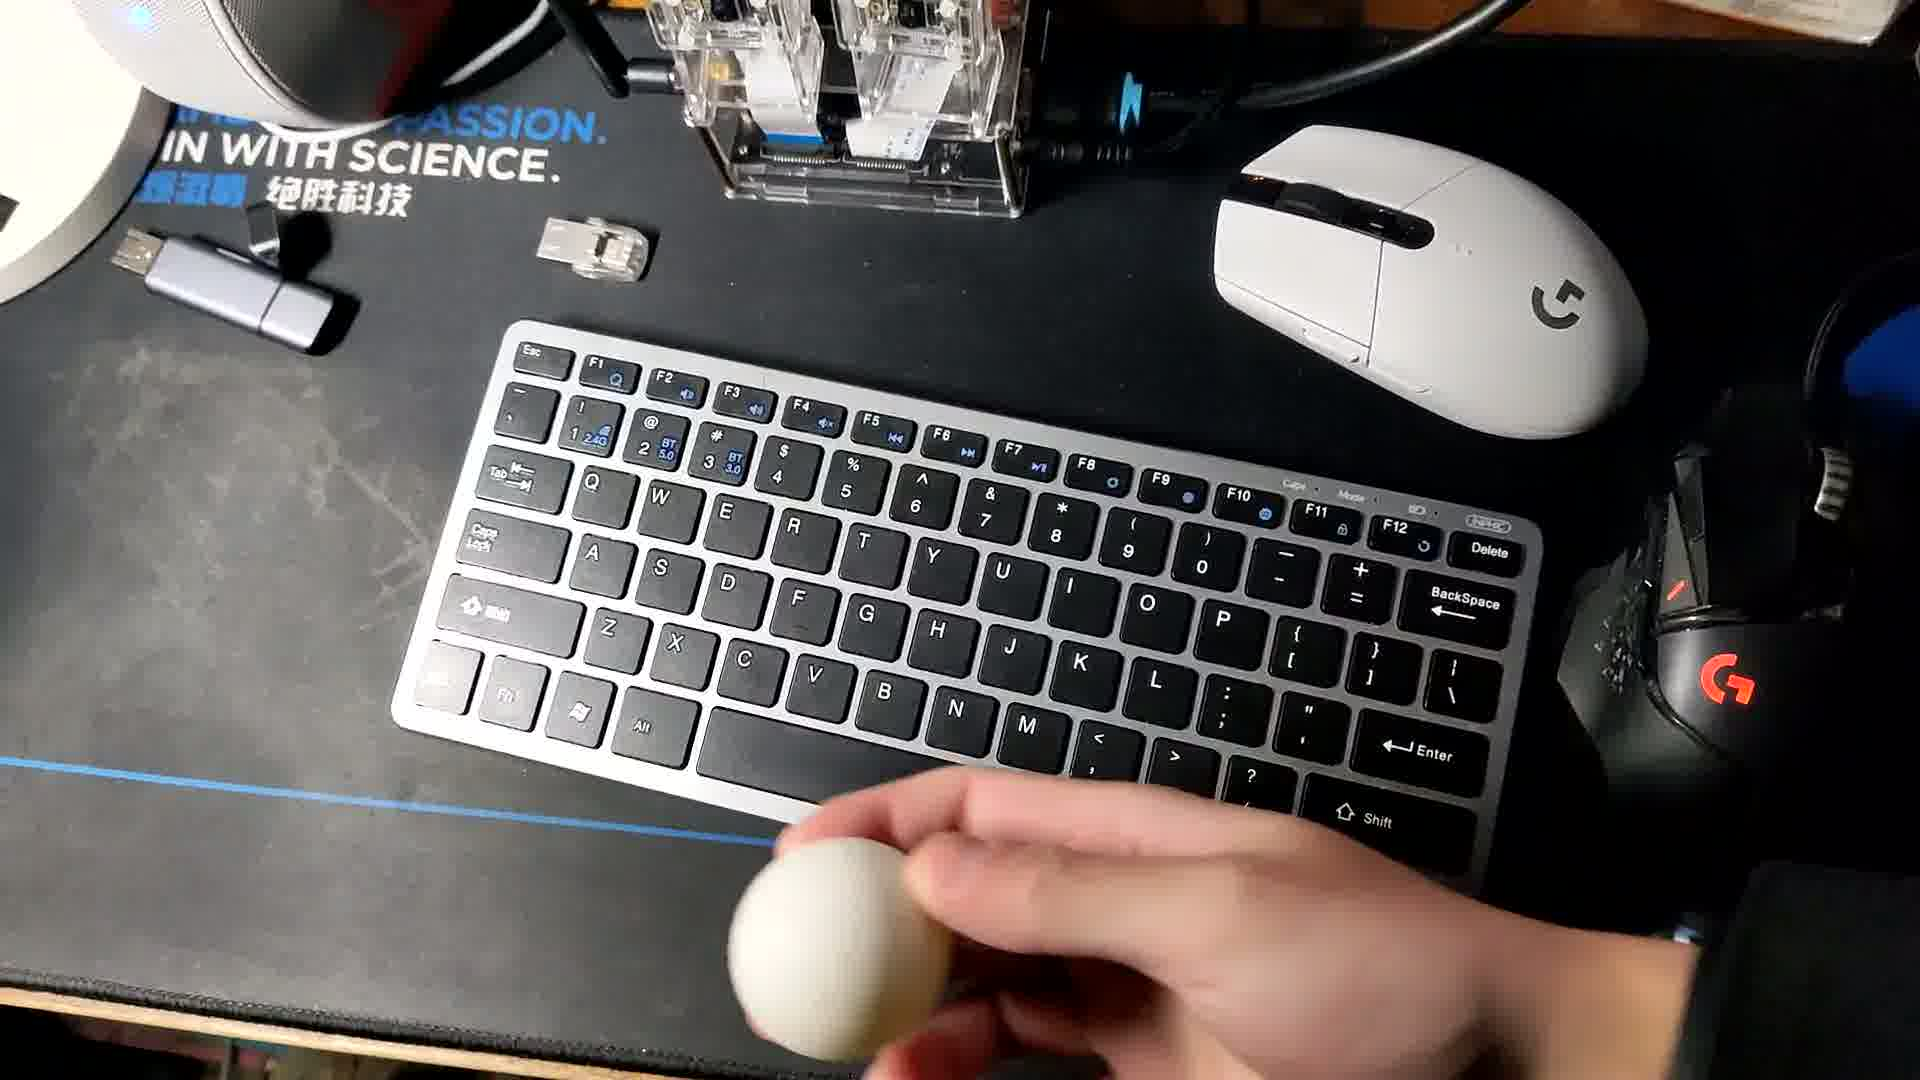Ball: (717, 835, 947, 1062)
